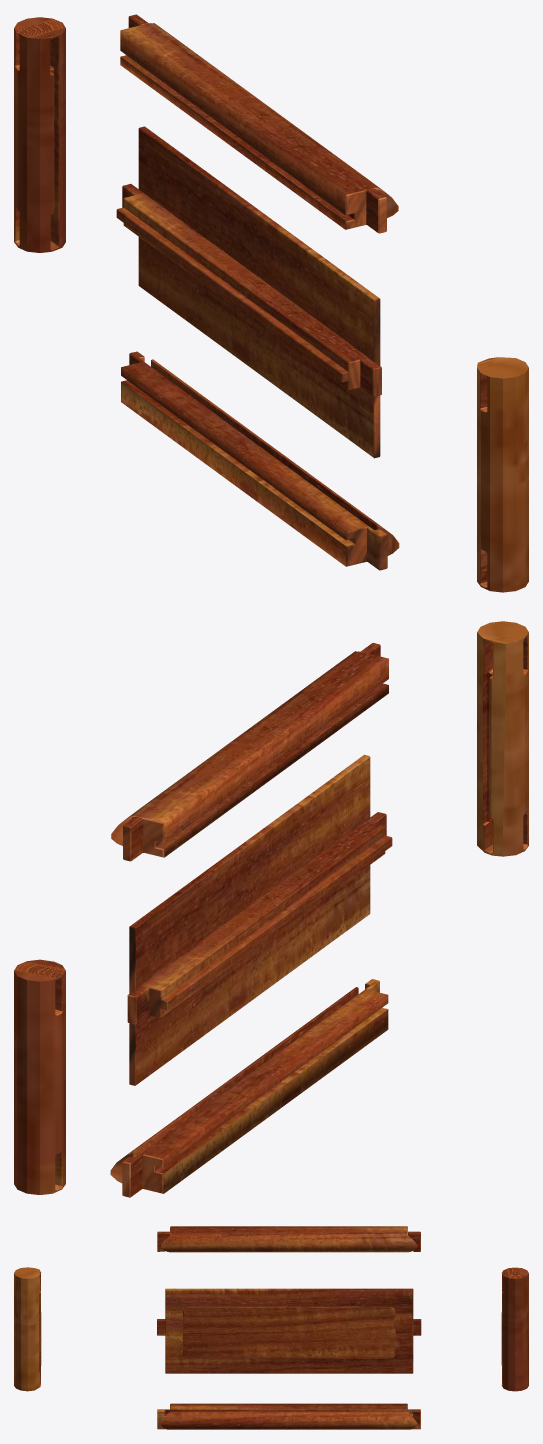
File: SJ_J_ceban_01.FBX
3 renders of one model, top to bottom at view 1: azimuth 30°, elevation 25°; view 2: azimuth 150°, elevation 25°; view 3: azimuth 270°, elevation 25°, orthographic. The views are drawn at different scales.
Parts seen in each view (by area): view 1: SJ_J_ceban_01, SJ_J_motou_2_02, SJ_J_motou_2_04, SJ_J_zhongchougui_03, SJ_J_tui_02, SJ_J_tui_01; view 2: SJ_J_ceban_01, SJ_J_motou_2_02, SJ_J_motou_2_04, SJ_J_zhongchougui_03, SJ_J_tui_01, SJ_J_tui_02; view 3: SJ_J_ceban_01, SJ_J_motou_2_02, SJ_J_motou_2_04, SJ_J_tui_01, SJ_J_tui_02, SJ_J_zhongchougui_03.
Boxes of the visible parts, box(x1,y1,x2,y2) form: SJ_J_ceban_01: box(138, 126, 380, 458); SJ_J_motou_2_02: box(120, 14, 398, 233); SJ_J_motou_2_04: box(121, 351, 399, 570); SJ_J_zhongchougui_03: box(116, 184, 381, 396); SJ_J_tui_02: box(477, 357, 528, 592); SJ_J_tui_01: box(14, 17, 65, 252); SJ_J_ceban_01: box(129, 754, 370, 1085); SJ_J_motou_2_02: box(111, 643, 388, 861); SJ_J_motou_2_04: box(110, 979, 388, 1197); SJ_J_zhongchougui_03: box(127, 812, 392, 1024); SJ_J_tui_01: box(14, 959, 65, 1194); SJ_J_tui_02: box(477, 621, 528, 856); SJ_J_ceban_01: box(165, 1288, 413, 1373); SJ_J_motou_2_02: box(157, 1226, 420, 1252); SJ_J_motou_2_04: box(157, 1403, 420, 1429); SJ_J_tui_01: box(501, 1267, 528, 1391); SJ_J_tui_02: box(14, 1267, 41, 1391); SJ_J_zhongchougui_03: box(157, 1319, 421, 1335).
Bounding box in the file's own units: 4.34 × 31.88 × 76.03.
